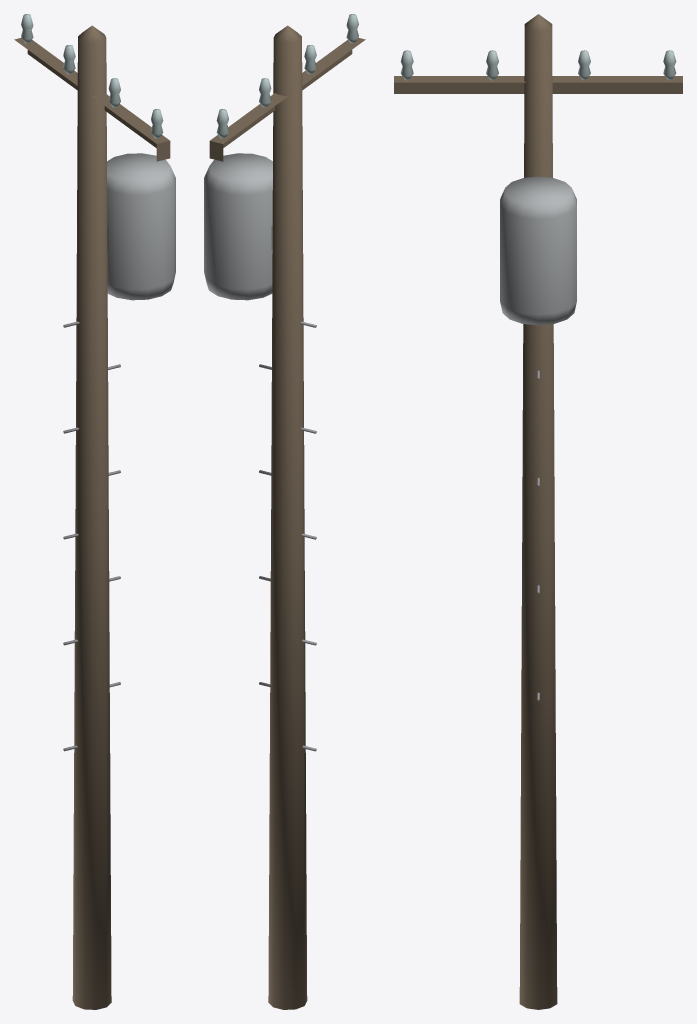
File: utility_pole.glb
3 renders of one model, left to right at view 1: azimuth 30°, elevation 25°; view 2: azimuth 150°, elevation 25°; view 3: azimuth 270°, elevation 25°, orthographic.
Visible parts, largest first — view 1: UtilityPole; view 2: UtilityPole; view 3: UtilityPole.
Part boxes in pixels (bbox=[...]): UtilityPole: bbox=[14, 14, 175, 1009]; UtilityPole: bbox=[204, 14, 365, 1009]; UtilityPole: bbox=[394, 14, 682, 1009].
Bounding box in the file's own units: 0.95 × 8.3 × 2.2.
